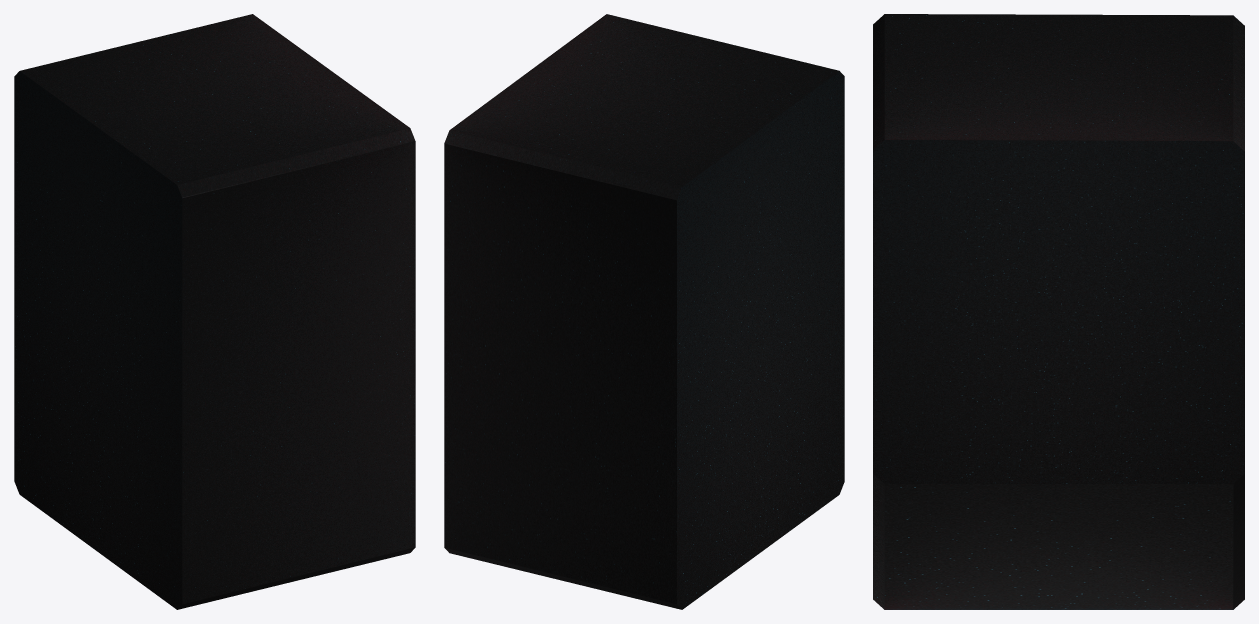
The model's file is ElevatorOff.obj.
3 renders of one model, left to right at view 1: azimuth 30°, elevation 25°; view 2: azimuth 150°, elevation 25°; view 3: azimuth 270°, elevation 25°, orthographic. The views are drawn at different scales.
Parts seen in each view (by area): view 1: Combined_Mesh_(root:_scene); view 2: Combined_Mesh_(root:_scene); view 3: Combined_Mesh_(root:_scene).
Boxes of the visible parts, <box> form: Combined_Mesh_(root:_scene): <box>14,14,415,609</box>; Combined_Mesh_(root:_scene): <box>444,14,844,609</box>; Combined_Mesh_(root:_scene): <box>873,14,1244,609</box>.
Bounding box in the file's own units: 0.1104 × 0.1923 × 0.1378.
Materials: 1 (1 with a texture image).
